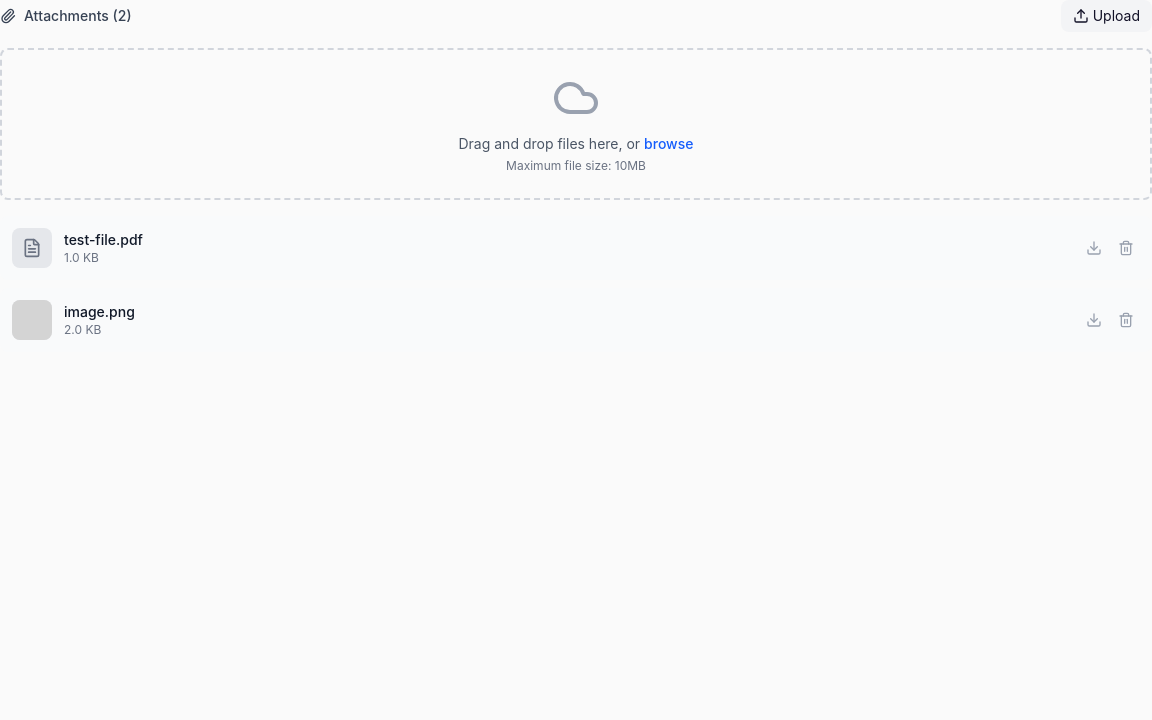
TaskAttachments › Deleting attachments › should close dialog when cancelled
Expected: the text "test-file.pdf" is shown, [64,231,143,248]
Note: Click delete button
Click the button titled "Delete" in the row of "test-file.pdf" at (1126, 248), box [1112,234,1140,262]
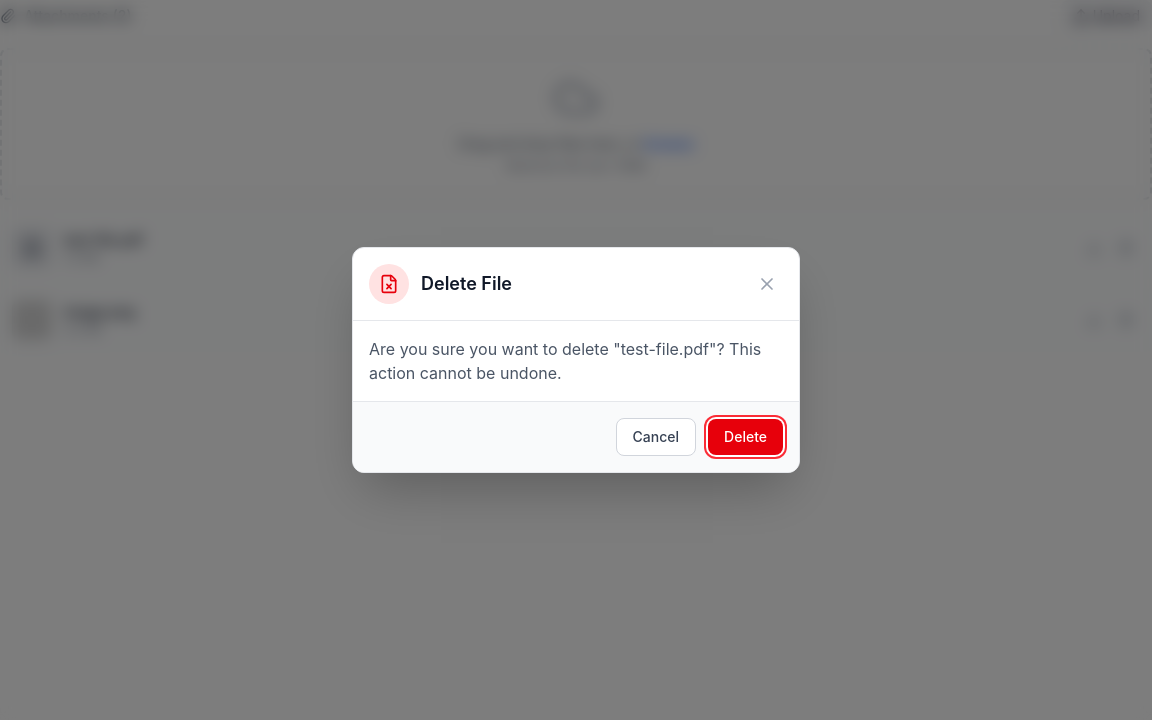
Result: the heading "Delete File" is shown at [421,270,512,298]
Note: Click cancel button
Click the button "Cancel" at (656, 437), box [616,418,696,456]
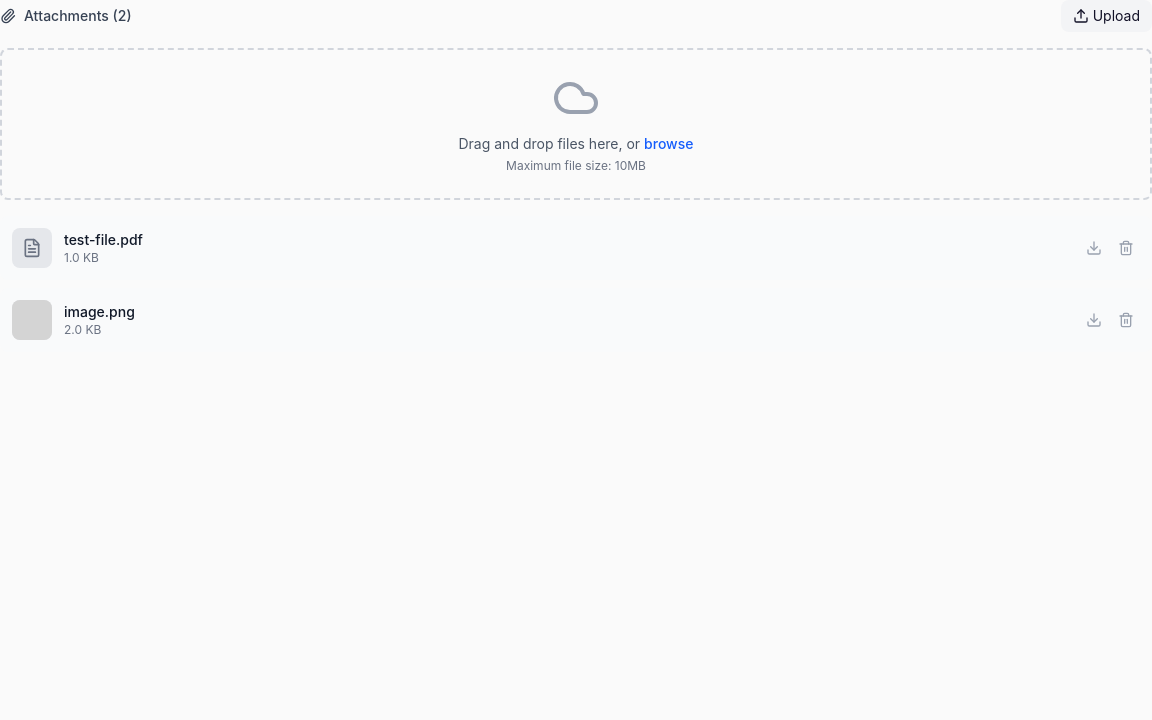
Result: the heading "Delete File" is gone
